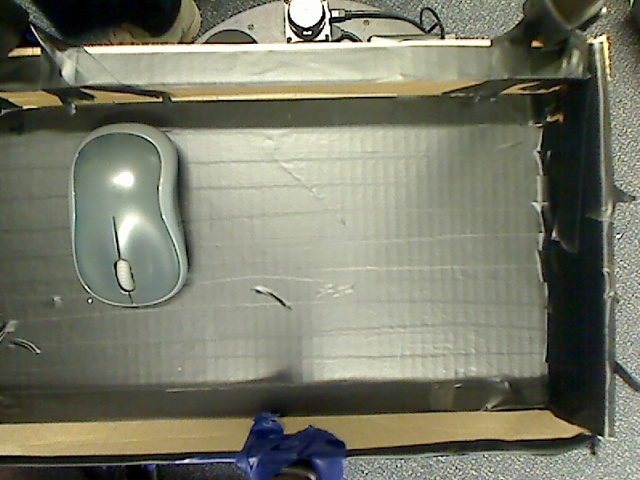mouse: (64, 123, 198, 316)
